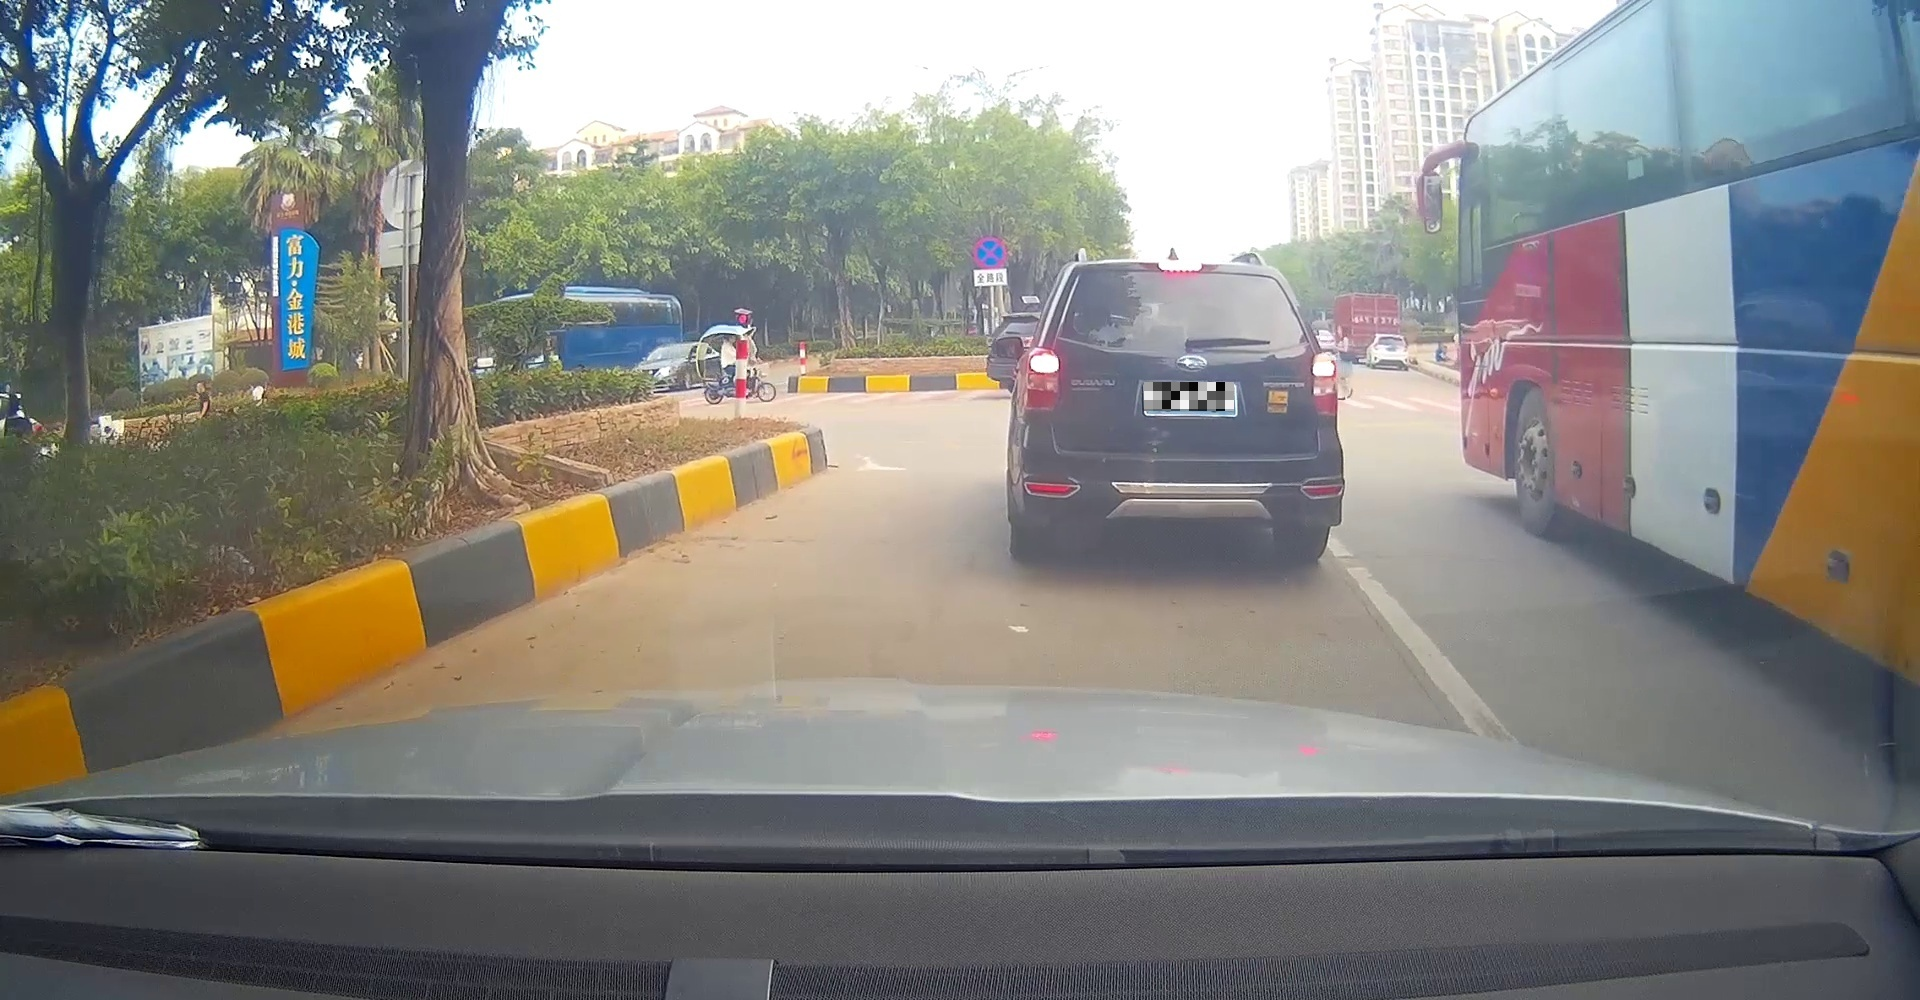L_light: (1020, 345, 1060, 410)
R_light: (1310, 352, 1338, 412)
T_light: (1158, 261, 1203, 272)
day-brake: (1016, 258, 1343, 562)
plate_1: (1144, 382, 1234, 411)
